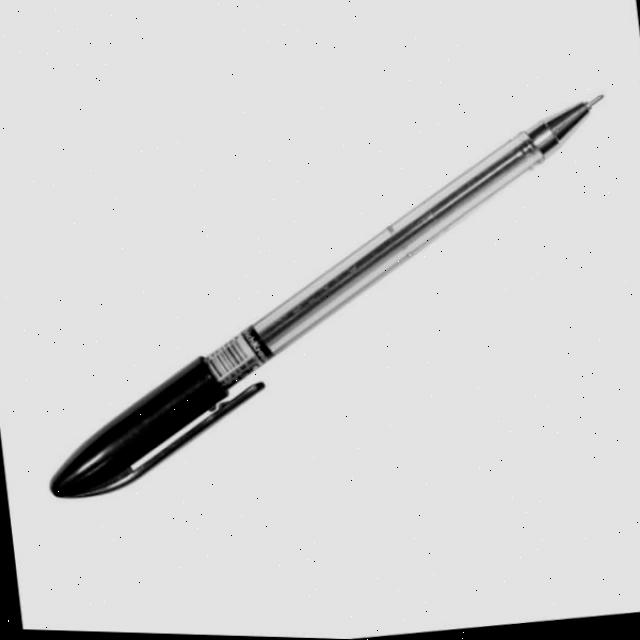pencil: (49, 88, 613, 507)
